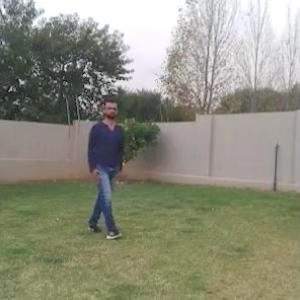follow: (87, 96, 121, 229)
